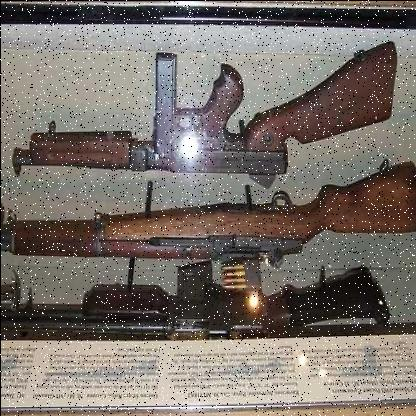rifle: (2, 30, 399, 186), (1, 140, 416, 286), (1, 268, 393, 341)
